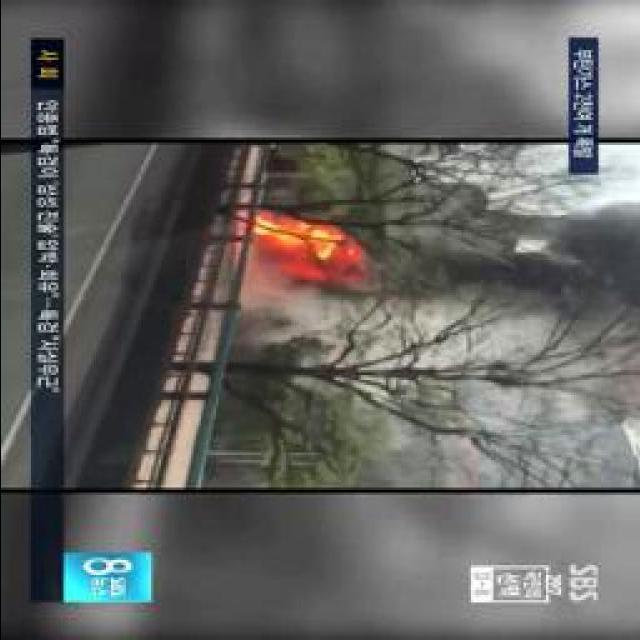Fire: (253, 208, 354, 288)
